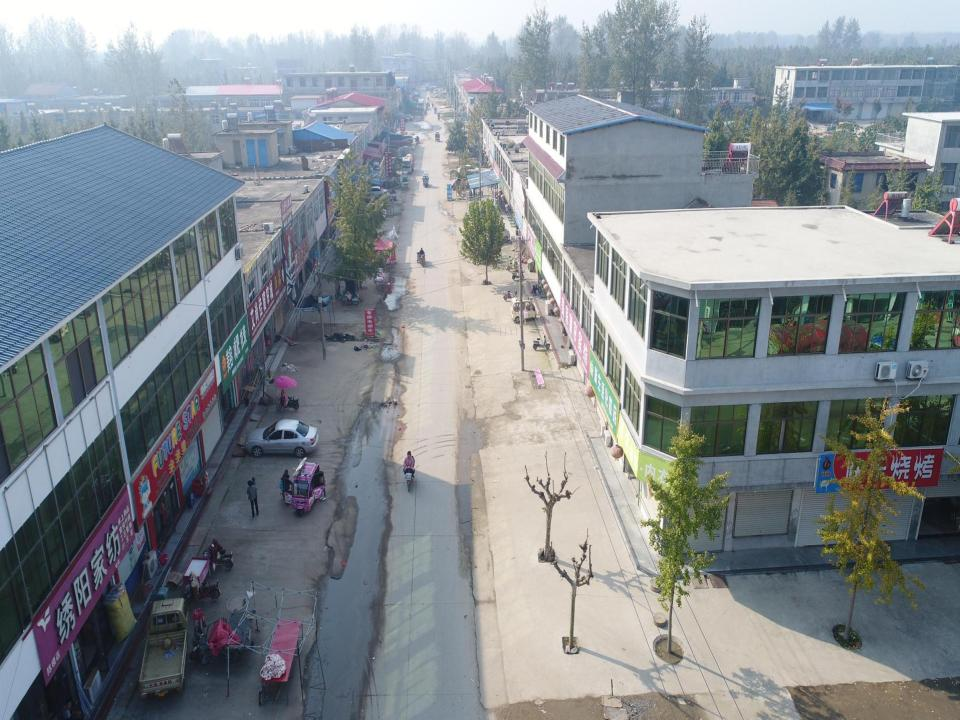car: (246, 419, 318, 459), (510, 300, 536, 323), (362, 186, 388, 199)
truck: (139, 596, 188, 696), (402, 154, 414, 175)
